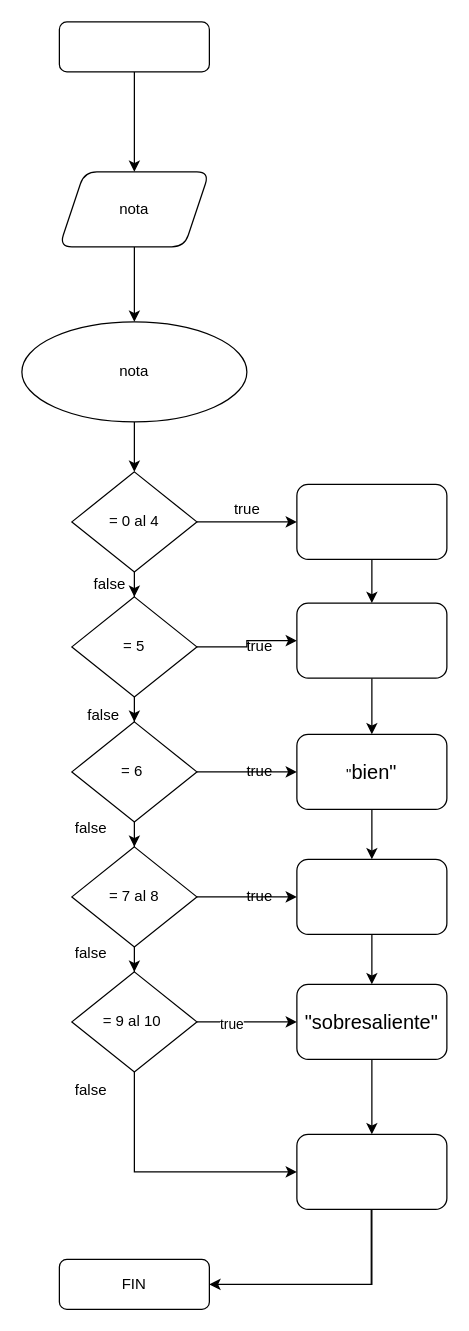
Image size: 469x1331. Some labels were removed from this diagram. Here are the shapes that lost their labels. From the top down, the centre of each, then its label:
point (133, 46): INICIO
point (371, 521): "insuficiente "
point (371, 640): "suficiente"
point (371, 896): " notable"
point (371, 1171): "Este valor no es valido"
